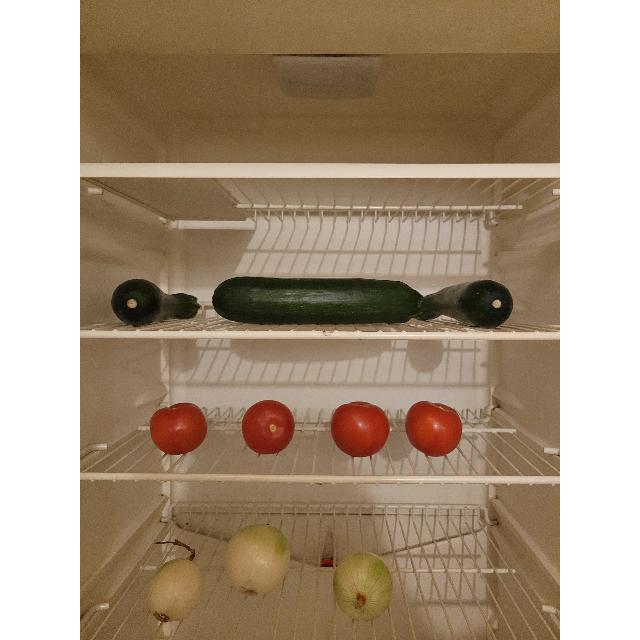onion: (224, 524, 290, 596), (332, 552, 393, 620), (146, 556, 206, 624)
tomato: (403, 398, 462, 458), (330, 402, 390, 461), (150, 402, 208, 456), (242, 400, 296, 456)
zucchini: (214, 276, 426, 324), (112, 279, 200, 325), (460, 280, 514, 330), (162, 293, 200, 321)
